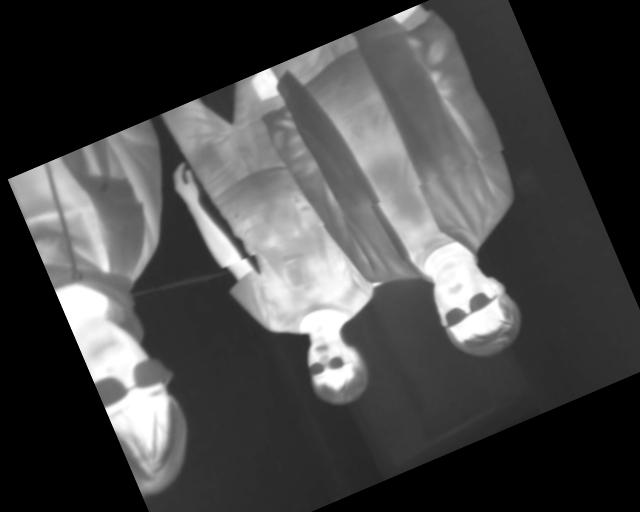face: (73, 304, 209, 500), (419, 244, 531, 370), (291, 318, 379, 415)
